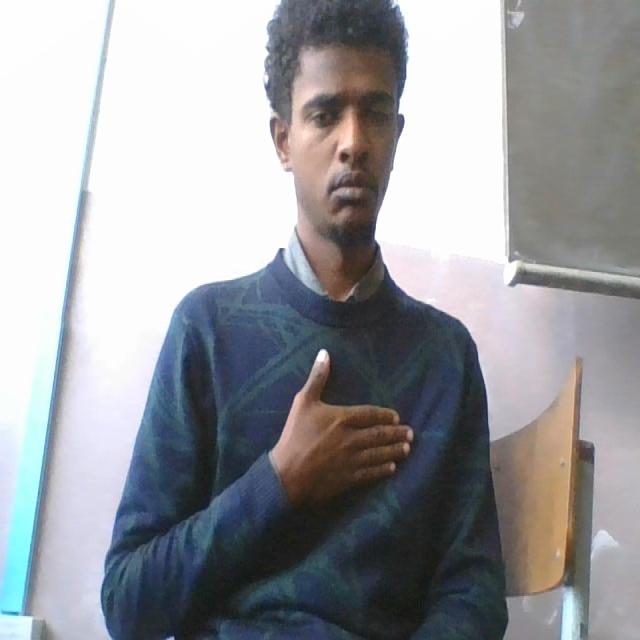yene: (268, 336, 423, 512)
